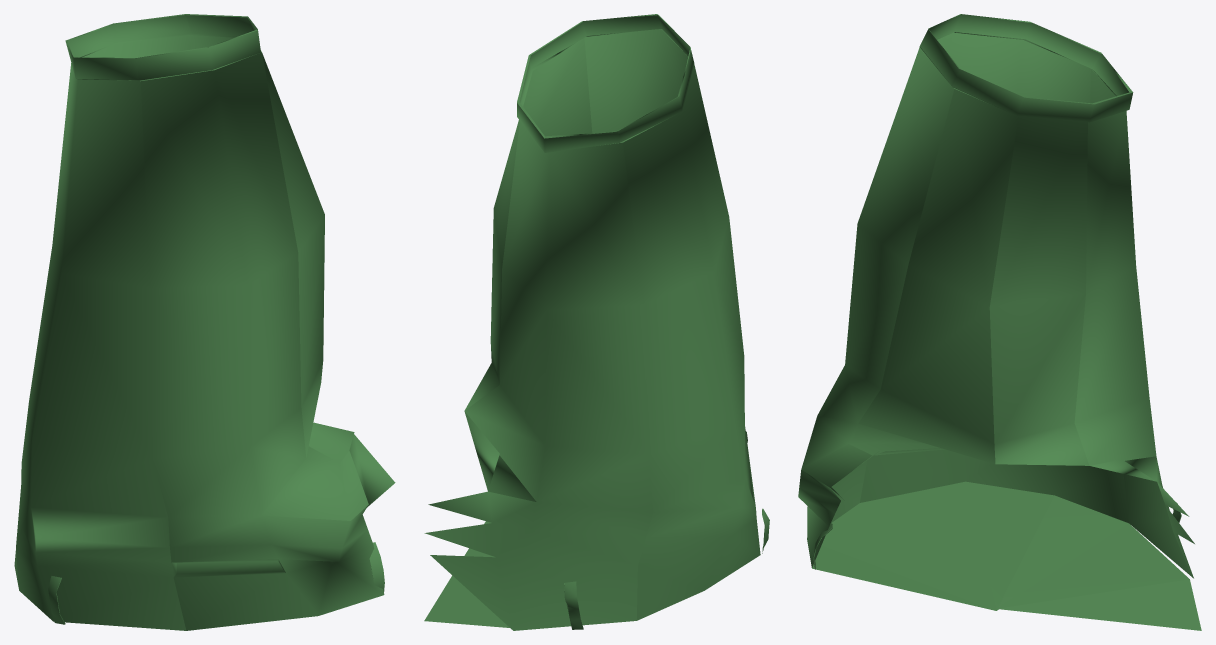
The model's file is left_up_leg.glb.
3 views of the same model, side by side, from view 1: azimuth 30°, elevation 25°; view 2: azimuth 150°, elevation 25°; view 3: azimuth 270°, elevation 25° (orthographic). The views are drawn at different scales.
Visible parts, largest first — view 1: shorts-green_LEFT_UP_LEG; view 2: shorts-green_LEFT_UP_LEG; view 3: shorts-green_LEFT_UP_LEG.
Part boxes in pixels (x1,y1,x2,y2): shorts-green_LEFT_UP_LEG: (14, 14, 395, 630); shorts-green_LEFT_UP_LEG: (424, 14, 769, 630); shorts-green_LEFT_UP_LEG: (798, 14, 1201, 630).
Size of the model in its own units: 0.2568 by 0.502 by 0.3329.
Materials: 1 (1 with a texture image).
